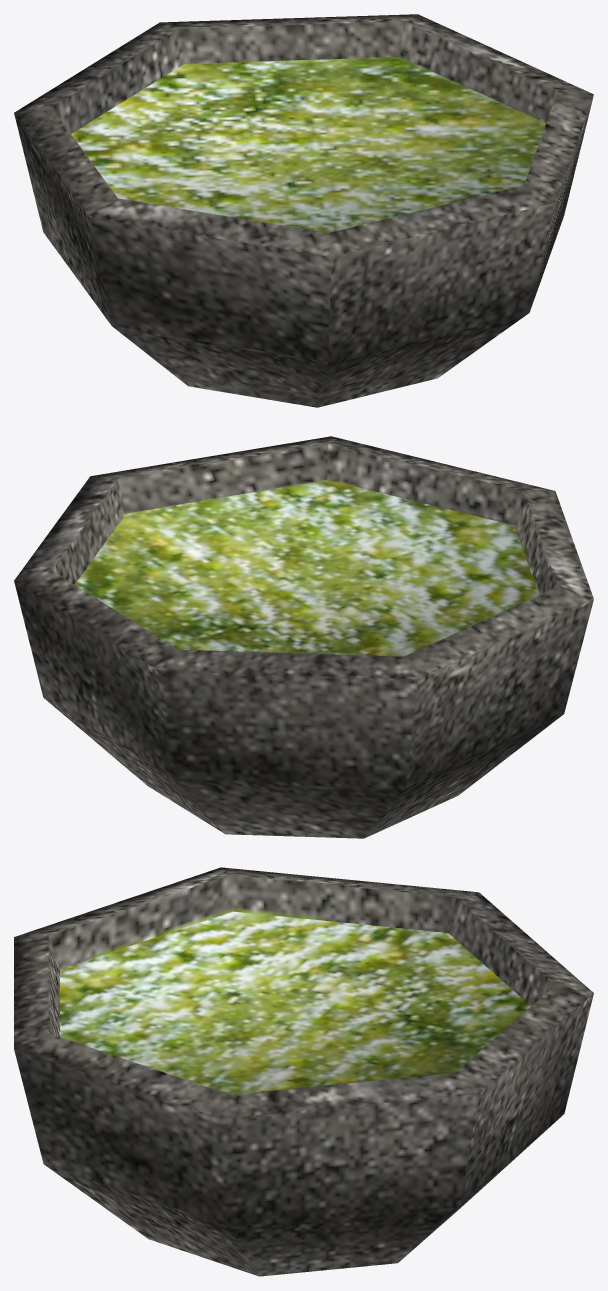
The model's file is SauceGreen.glb.
The picture shows the model from 3 angles, top to bottom: view 1: azimuth 30°, elevation 25°; view 2: azimuth 150°, elevation 25°; view 3: azimuth 270°, elevation 25°; orthographic projection. The views are drawn at different scales.
Visible parts, largest first — view 1: Sauce; view 2: Sauce; view 3: Sauce.
Part boxes in pixels (x1=…): Sauce: x1=14, y1=14, x2=593, y2=407; Sauce: x1=14, y1=436, x2=593, y2=838; Sauce: x1=14, y1=867, x2=593, y2=1276.
Bounding box in the file's own units: 0.267 × 0.1112 × 0.2603.
1 material, 1 textured.
